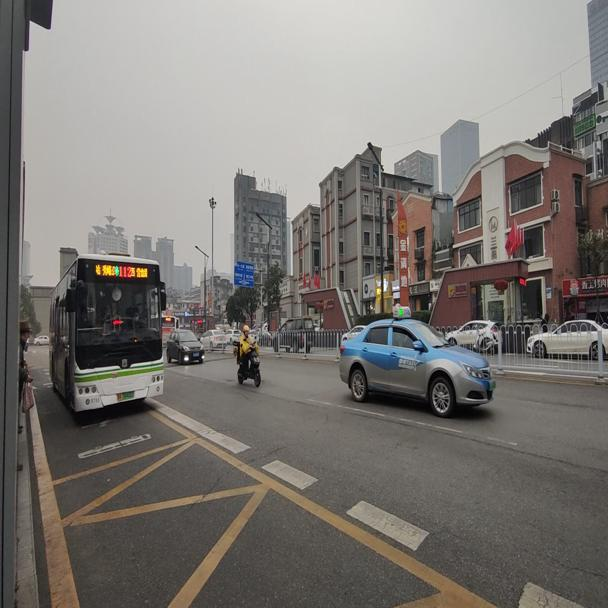bus: (49, 249, 165, 407)
screen: (117, 265, 132, 279)
